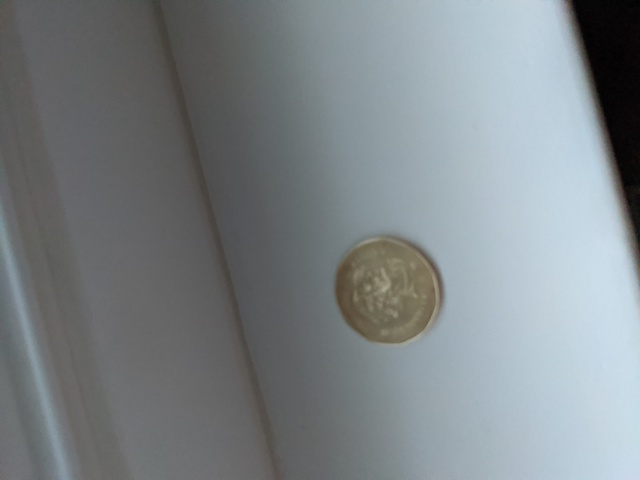loonie: (324, 228, 460, 347)
